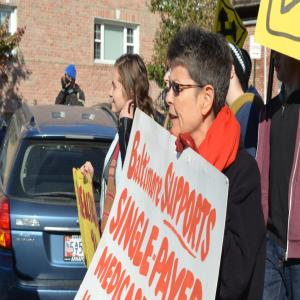Vehicle-registration-plate: (65, 235, 85, 262)
